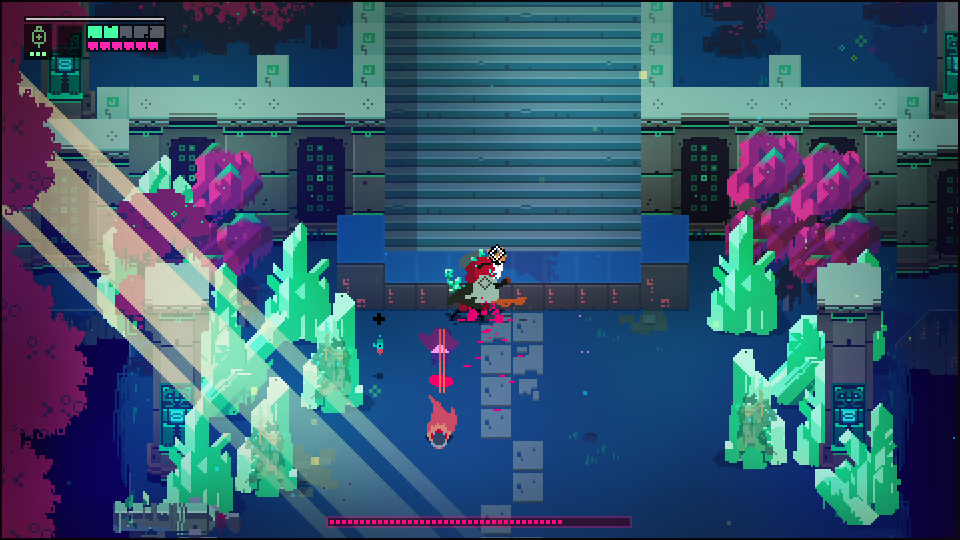hanged_man: (438, 243, 535, 330)
player: (427, 389, 459, 451)
